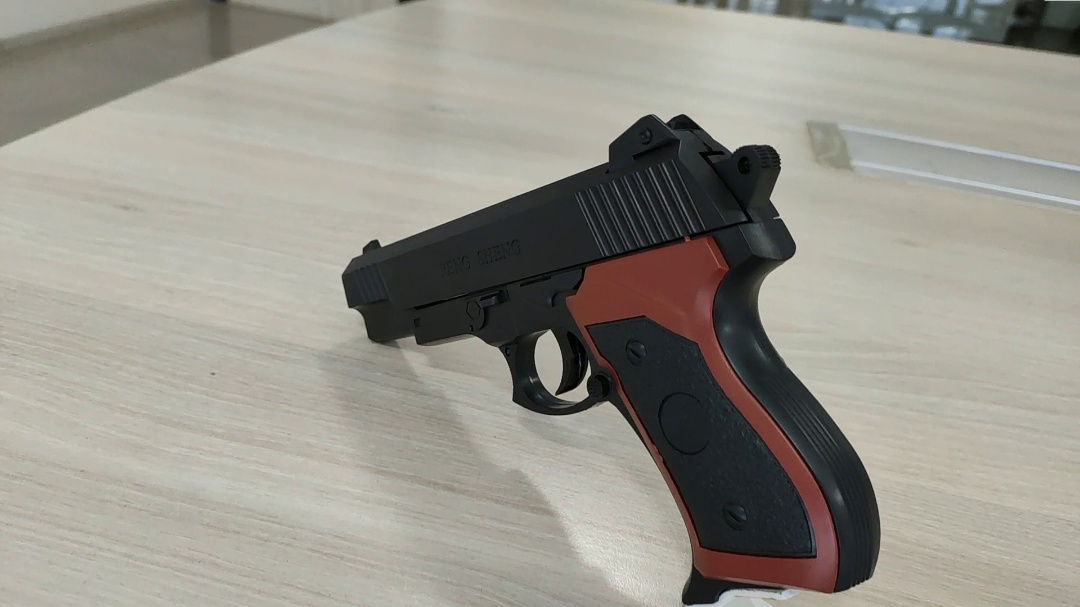gun: (340, 113, 886, 606)
